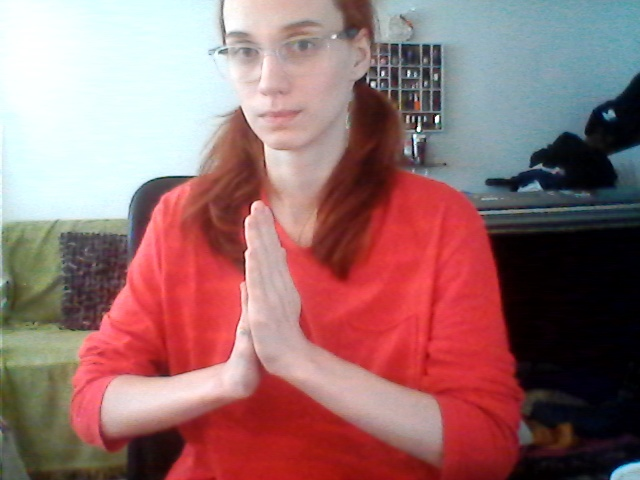prosim: (174, 197, 378, 424)
